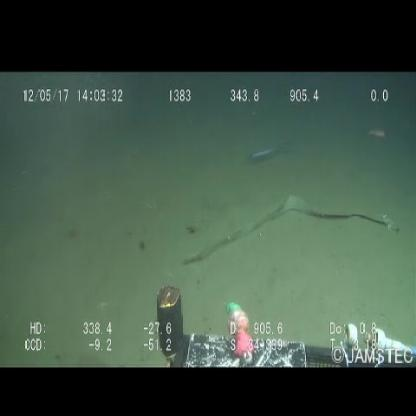Rov: (153, 283, 416, 366)
Rác: (176, 188, 406, 281)
